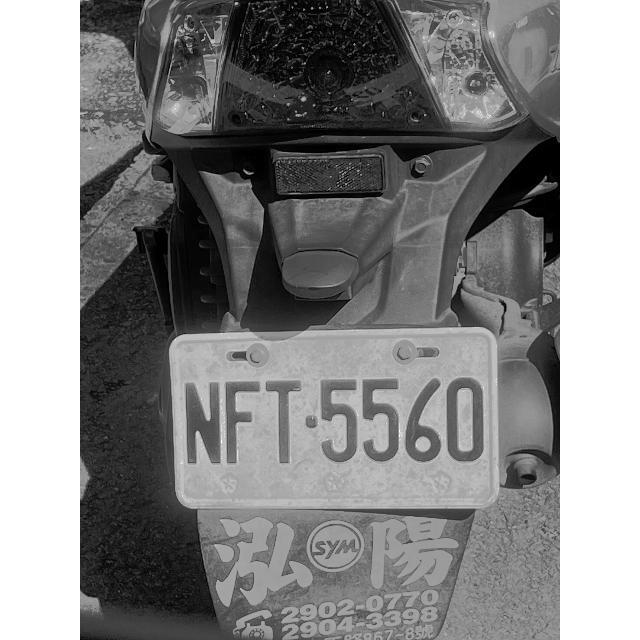-: (306, 410, 318, 432)
0: (446, 376, 486, 468)
5: (360, 374, 402, 470), (320, 376, 360, 468)
6: (402, 374, 443, 468)
F: (224, 378, 262, 468)
N: (182, 379, 224, 473)
T: (264, 377, 304, 471)
